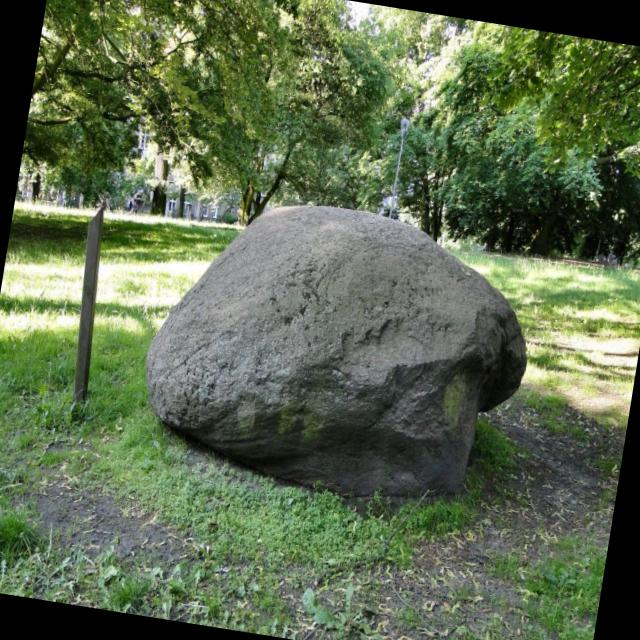grass: (0, 328, 628, 640)
stone: (147, 206, 527, 497)
